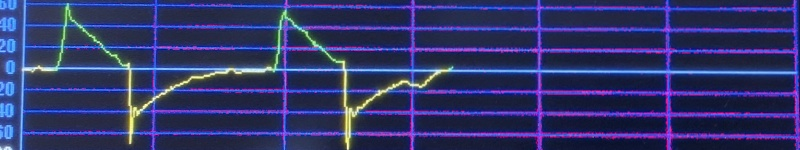normal_flow: (21, 3, 443, 150)
